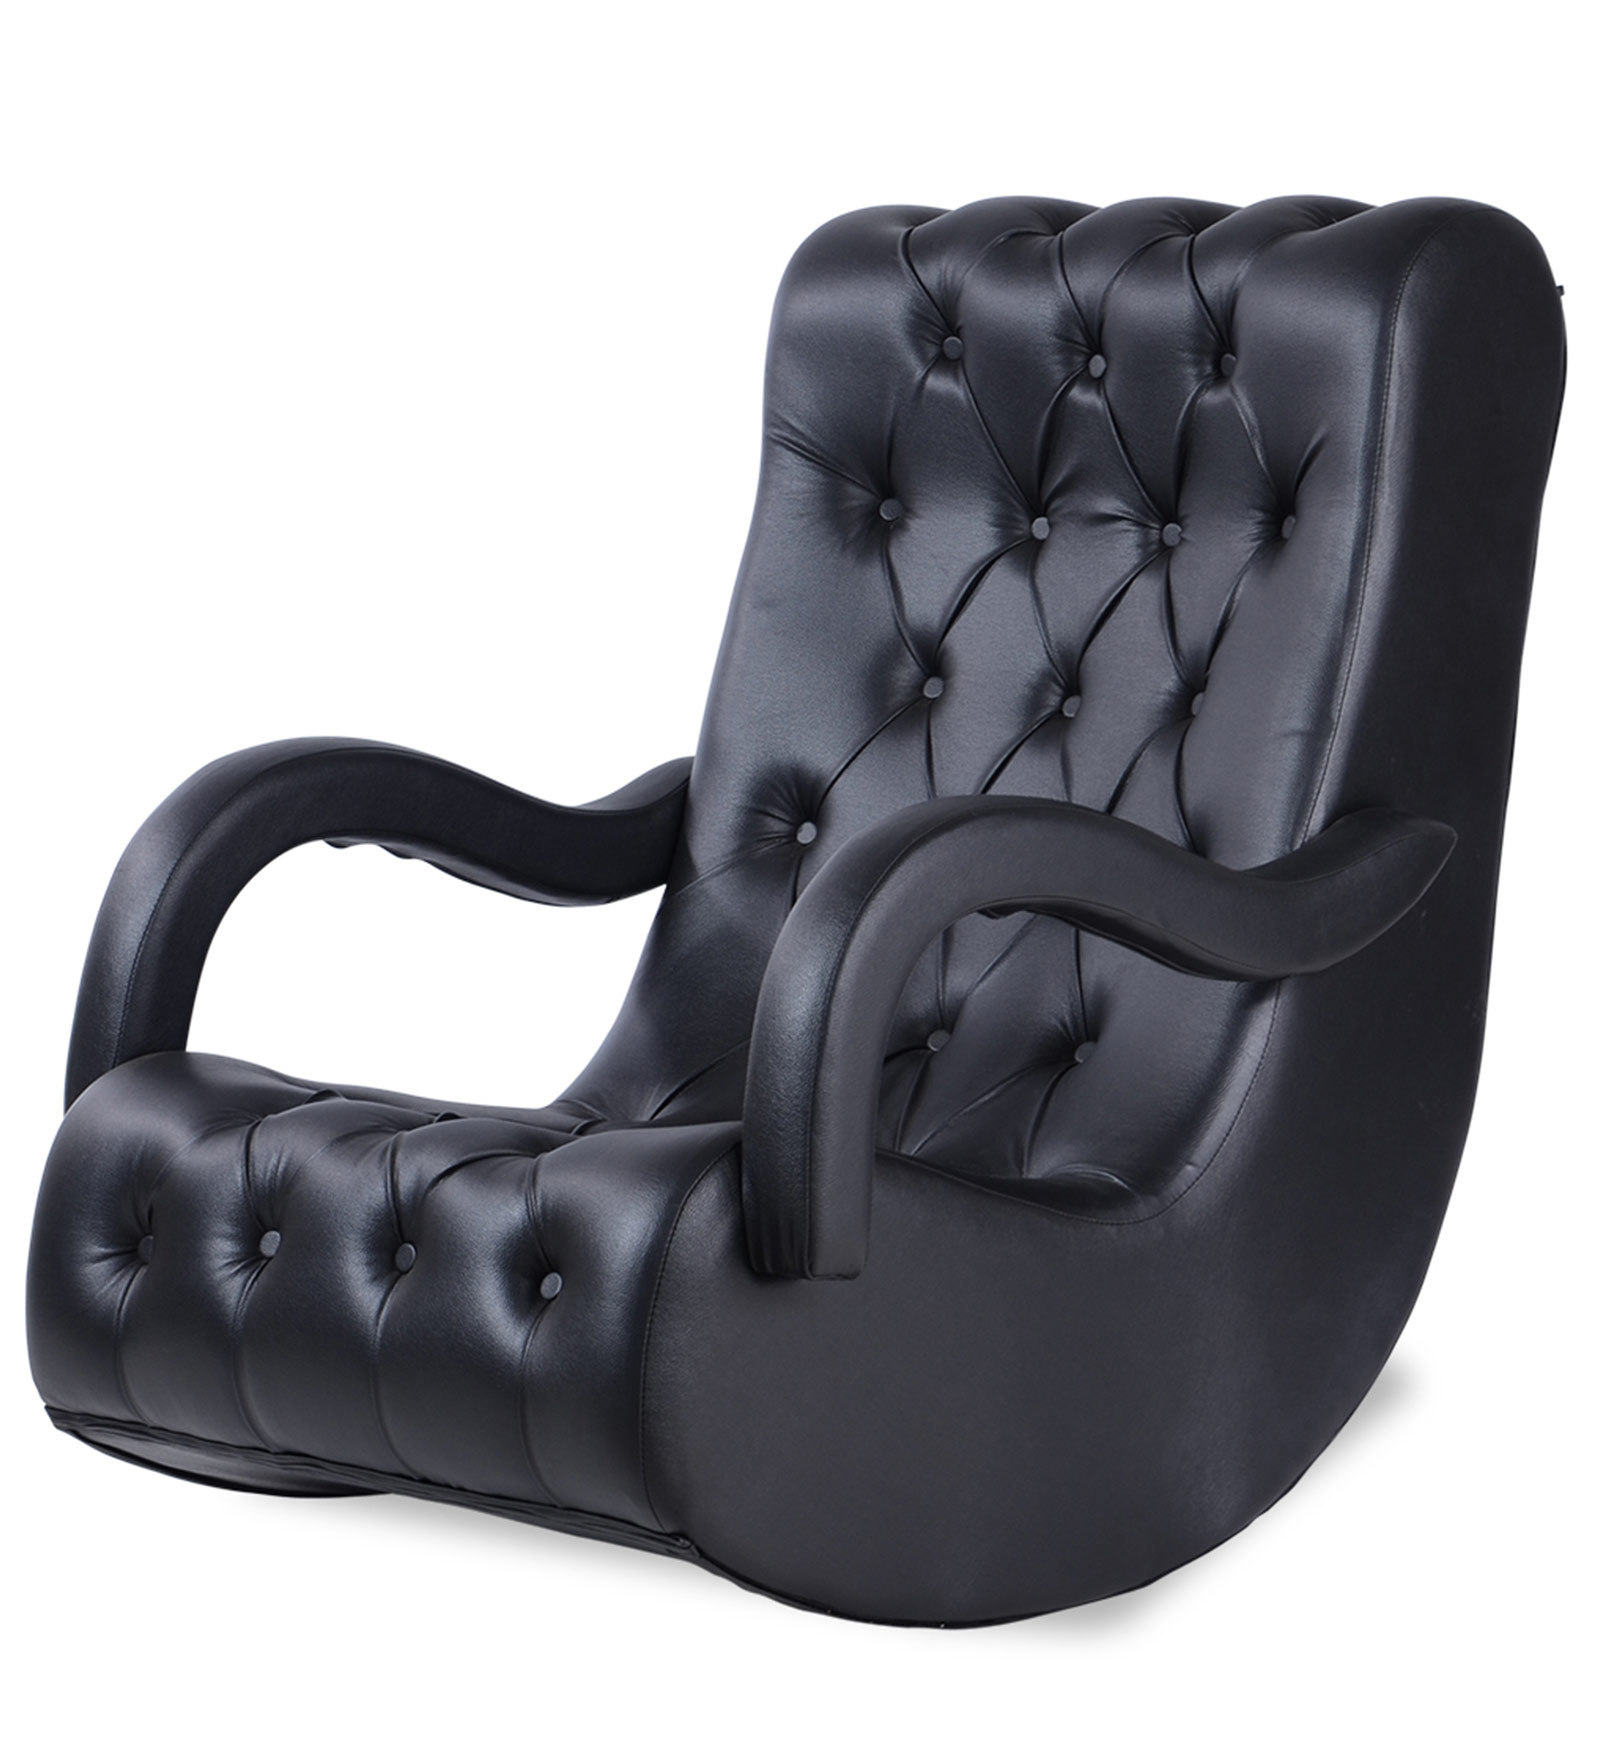Low Seat Rocking Chair with Arm Rest in Black Leatherette by Durian: (29, 163, 1579, 1627)
